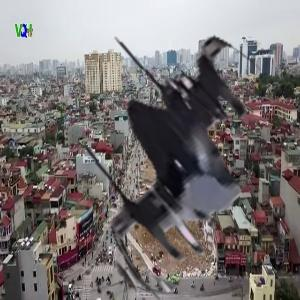drone: (35, 5, 290, 260)
